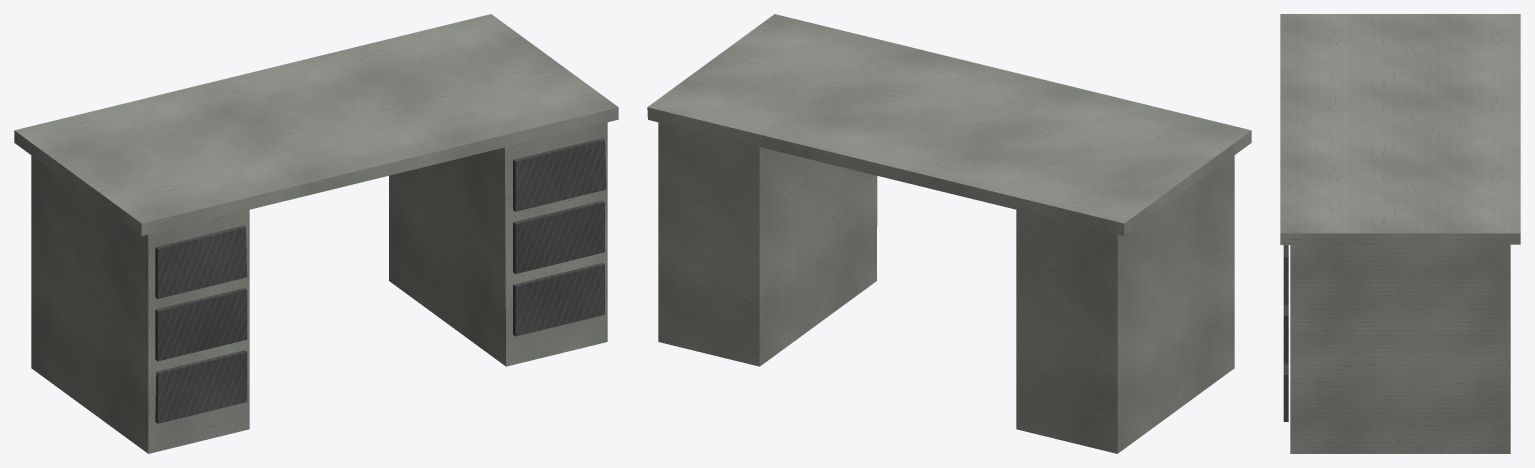
Rendered from desk_v3.glb.
3 views of the same model, side by side, from view 1: azimuth 30°, elevation 25°; view 2: azimuth 150°, elevation 25°; view 3: azimuth 270°, elevation 25° (orthographic). The views are drawn at different scales.
Visible parts, largest first — view 1: Variant_desk_3; view 2: Variant_desk_3; view 3: Variant_desk_3.
Boxes of the visible parts, <box> form: Variant_desk_3: <box>14,14,618,453</box>; Variant_desk_3: <box>647,14,1251,453</box>; Variant_desk_3: <box>1280,14,1520,453</box>.
Size of the model in its own units: 1.6 by 0.76 by 0.74.
Materials: 2 (2 with a texture image).
